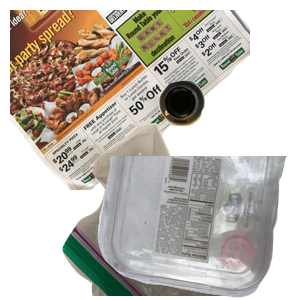glass: (156, 78, 300, 197)
paper: (10, 10, 250, 190)
plastic: (95, 156, 300, 300)
trash: (60, 120, 300, 300)
